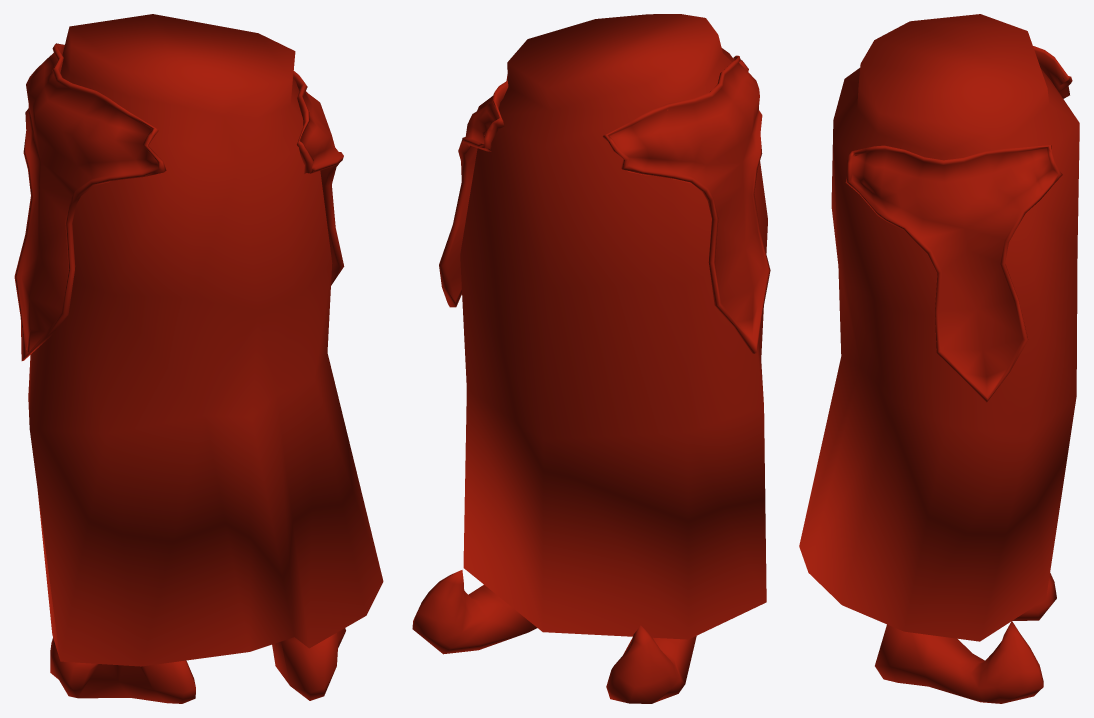
The model's file is bot_000162.obj.
3 renders of one model, left to right at view 1: azimuth 30°, elevation 25°; view 2: azimuth 150°, elevation 25°; view 3: azimuth 270°, elevation 25°, orthographic. The views are drawn at different scales.
Parts seen in each view (by area): view 1: LowPoly_Warlock.004_Plane.004; view 2: LowPoly_Warlock.004_Plane.004; view 3: LowPoly_Warlock.004_Plane.004.
Part boxes in pixels (bbox=[...]): LowPoly_Warlock.004_Plane.004: bbox=[14, 14, 383, 703]; LowPoly_Warlock.004_Plane.004: bbox=[412, 14, 770, 703]; LowPoly_Warlock.004_Plane.004: bbox=[799, 14, 1079, 703].
Size of the model in its own units: 0.5921 by 1.14 by 0.4926.
